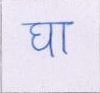aa_matra: (62, 26, 66, 53)
